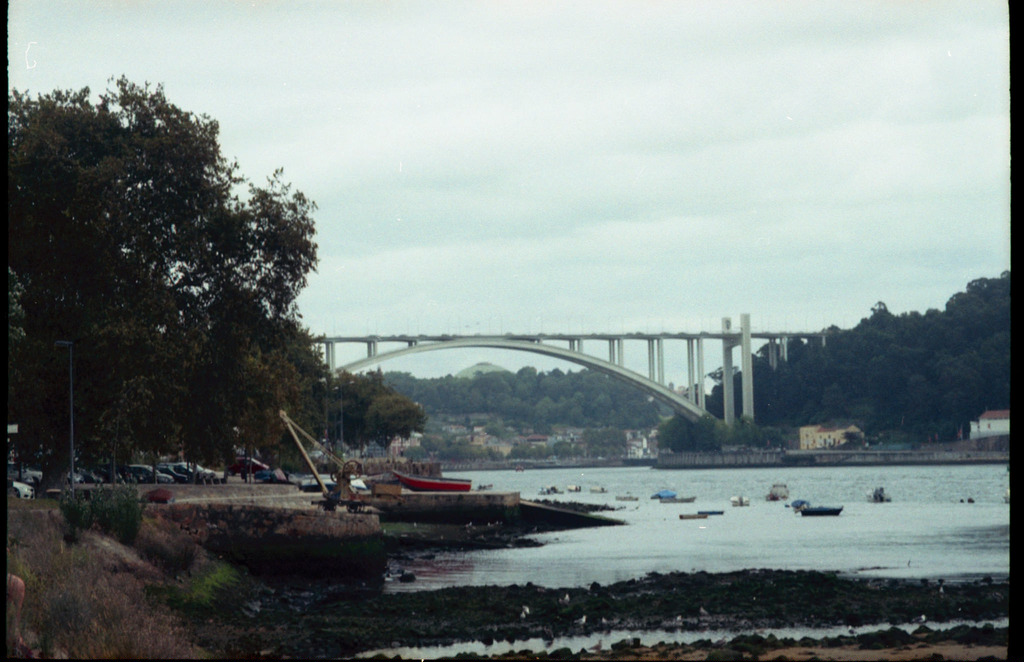arrabida: (303, 314, 834, 449)
